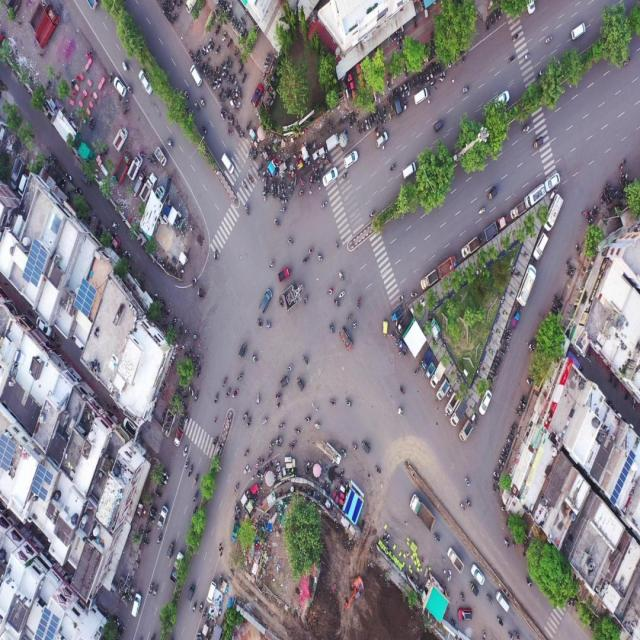3W: (164, 540, 176, 562), (487, 184, 498, 204), (360, 438, 372, 456), (186, 582, 196, 603), (237, 341, 249, 358), (533, 133, 544, 151), (381, 316, 389, 340), (433, 118, 445, 134), (468, 581, 478, 598), (280, 372, 288, 392), (296, 376, 304, 393)
Cars: (258, 285, 273, 315), (568, 22, 587, 44), (138, 66, 152, 95), (534, 231, 548, 260), (188, 64, 204, 89), (494, 588, 510, 612), (339, 326, 353, 352), (130, 589, 143, 617), (391, 88, 402, 120), (471, 560, 485, 584), (221, 150, 235, 174), (342, 150, 360, 168), (322, 166, 338, 186), (480, 389, 492, 415), (544, 172, 560, 191), (251, 83, 264, 106), (204, 580, 217, 603), (412, 88, 428, 106), (402, 160, 416, 180), (376, 132, 392, 148), (114, 76, 125, 98), (457, 608, 473, 622)
LCV: (516, 265, 536, 306), (546, 193, 562, 231), (523, 182, 546, 208), (437, 254, 458, 279), (447, 545, 464, 572), (139, 174, 156, 201), (451, 402, 468, 428), (431, 362, 447, 389), (325, 442, 343, 466), (113, 125, 128, 152), (420, 268, 438, 290), (459, 237, 480, 254), (132, 172, 146, 197), (445, 392, 458, 418), (129, 154, 143, 178), (420, 348, 434, 371), (276, 262, 292, 282), (511, 198, 526, 219), (435, 380, 449, 402), (157, 505, 169, 530), (153, 146, 166, 168), (458, 420, 472, 440), (326, 132, 339, 151), (396, 338, 408, 356), (173, 427, 183, 447), (510, 314, 521, 331), (392, 306, 403, 322), (425, 363, 435, 380)
M2W: (338, 268, 347, 284), (354, 294, 363, 310), (289, 437, 298, 453), (351, 437, 359, 455), (213, 389, 221, 406), (524, 578, 534, 591), (495, 615, 504, 629), (212, 245, 218, 264), (234, 479, 241, 495), (340, 441, 347, 457), (486, 592, 494, 606), (156, 532, 163, 548), (325, 285, 335, 296), (272, 218, 282, 229), (543, 34, 554, 44), (316, 252, 325, 264), (148, 580, 154, 598), (432, 532, 441, 544), (510, 31, 519, 43), (398, 290, 407, 302), (188, 462, 195, 477), (193, 469, 200, 484), (220, 375, 228, 388), (183, 457, 191, 470), (459, 590, 467, 603), (368, 207, 376, 220), (154, 489, 162, 502), (464, 473, 470, 490), (285, 364, 295, 374), (303, 415, 313, 425), (410, 290, 420, 300), (256, 316, 263, 330), (243, 202, 250, 216), (231, 387, 239, 399), (154, 582, 160, 598), (240, 179, 248, 191), (242, 462, 250, 474), (302, 294, 310, 306), (329, 322, 336, 335), (182, 444, 189, 457), (193, 389, 200, 402), (198, 601, 205, 614), (44, 79, 51, 92), (275, 390, 284, 400), (292, 427, 302, 436), (226, 385, 232, 400), (319, 199, 328, 209), (521, 126, 530, 136), (500, 342, 510, 351), (143, 538, 152, 548), (333, 298, 341, 309), (264, 320, 272, 331), (278, 419, 286, 430), (459, 501, 467, 512), (334, 238, 340, 252), (398, 384, 405, 396), (252, 354, 259, 366), (201, 123, 208, 135), (244, 417, 251, 429), (212, 434, 218, 448), (243, 447, 250, 459), (255, 392, 261, 406), (514, 628, 521, 640), (240, 15, 247, 27), (227, 36, 233, 50), (196, 366, 202, 380), (69, 79, 76, 91), (338, 288, 346, 298), (275, 400, 283, 410), (278, 206, 288, 214), (522, 52, 530, 62), (192, 491, 198, 504), (191, 599, 197, 612), (278, 296, 284, 309), (304, 460, 310, 473), (214, 22, 220, 35), (188, 384, 194, 397), (202, 607, 208, 620), (345, 398, 352, 409), (237, 370, 244, 381), (261, 416, 268, 427), (508, 53, 515, 64), (233, 47, 240, 58), (346, 312, 354, 321), (200, 96, 206, 108), (183, 88, 189, 100), (167, 136, 173, 148), (122, 60, 128, 72), (302, 255, 310, 264), (191, 275, 197, 287), (620, 158, 626, 170), (330, 398, 337, 408), (242, 411, 249, 421), (375, 465, 382, 475), (507, 630, 514, 640), (390, 162, 397, 172), (478, 232, 483, 246), (505, 436, 512, 446), (240, 130, 247, 140), (303, 355, 309, 366), (465, 497, 471, 508), (342, 170, 348, 181), (288, 179, 294, 190), (221, 31, 227, 42), (207, 38, 213, 49), (204, 63, 210, 74), (180, 411, 185, 424), (122, 106, 130, 114), (307, 246, 315, 254), (286, 238, 294, 246), (502, 448, 510, 456), (526, 379, 534, 387), (462, 86, 470, 94), (226, 128, 234, 136), (202, 46, 210, 54), (143, 530, 151, 538), (352, 320, 359, 329), (537, 69, 544, 78), (514, 408, 521, 417), (495, 357, 504, 364), (550, 306, 559, 313), (429, 79, 436, 88), (297, 189, 304, 198), (127, 85, 133, 95), (269, 258, 275, 268), (269, 438, 275, 448), (403, 82, 408, 94), (230, 14, 235, 26), (215, 45, 221, 55), (208, 70, 213, 82), (188, 51, 194, 61), (172, 13, 178, 23), (195, 354, 199, 369), (185, 413, 191, 423), (91, 120, 96, 132), (88, 116, 94, 126), (478, 207, 486, 214), (497, 459, 504, 467), (517, 404, 525, 411), (498, 349, 506, 356), (485, 18, 489, 32), (247, 175, 254, 183), (147, 517, 155, 524), (194, 100, 199, 111), (504, 539, 509, 550), (426, 72, 431, 83), (386, 80, 391, 91), (241, 73, 246, 84), (217, 78, 222, 89), (491, 479, 500, 485), (214, 9, 220, 18), (109, 71, 113, 84), (490, 14, 494, 27), (400, 85, 404, 98), (348, 117, 352, 130), (289, 186, 294, 196), (258, 164, 263, 174), (248, 147, 253, 157), (238, 64, 243, 74), (186, 105, 191, 115), (493, 487, 500, 494), (497, 465, 504, 472), (582, 210, 589, 217), (200, 49, 207, 56), (149, 511, 156, 518), (492, 472, 500, 478), (520, 400, 526, 408), (429, 67, 433, 79), (387, 96, 391, 108), (235, 19, 239, 31), (196, 46, 200, 58), (150, 506, 158, 512), (246, 121, 251, 130), (361, 123, 365, 134), (352, 114, 356, 125), (239, 27, 243, 38), (152, 154, 156, 165), (122, 98, 129, 104), (499, 455, 506, 461), (420, 74, 423, 88), (375, 106, 378, 120), (267, 450, 272, 458), (325, 156, 330, 164), (299, 176, 303, 186), (238, 54, 242, 64), (214, 80, 218, 90), (148, 156, 152, 166), (498, 7, 501, 20), (378, 109, 381, 122), (492, 366, 498, 372), (494, 11, 497, 23), (435, 64, 438, 76), (404, 98, 407, 110), (365, 118, 368, 130), (375, 121, 378, 133), (383, 106, 386, 118), (368, 118, 371, 130), (294, 176, 297, 188), (272, 192, 278, 198), (262, 170, 265, 182), (238, 22, 241, 34), (210, 42, 214, 51), (504, 329, 511, 334), (407, 79, 410, 90), (371, 115, 374, 126), (503, 335, 511, 339), (220, 61, 224, 69), (438, 63, 441, 73), (433, 66, 436, 76), (412, 78, 415, 88), (278, 198, 284, 203), (416, 75, 418, 89), (424, 74, 426, 87), (318, 171, 320, 183), (278, 183, 280, 195), (358, 125, 360, 136), (274, 183, 276, 192)
Truck: (408, 495, 435, 533), (36, 8, 58, 48), (114, 151, 130, 184)
